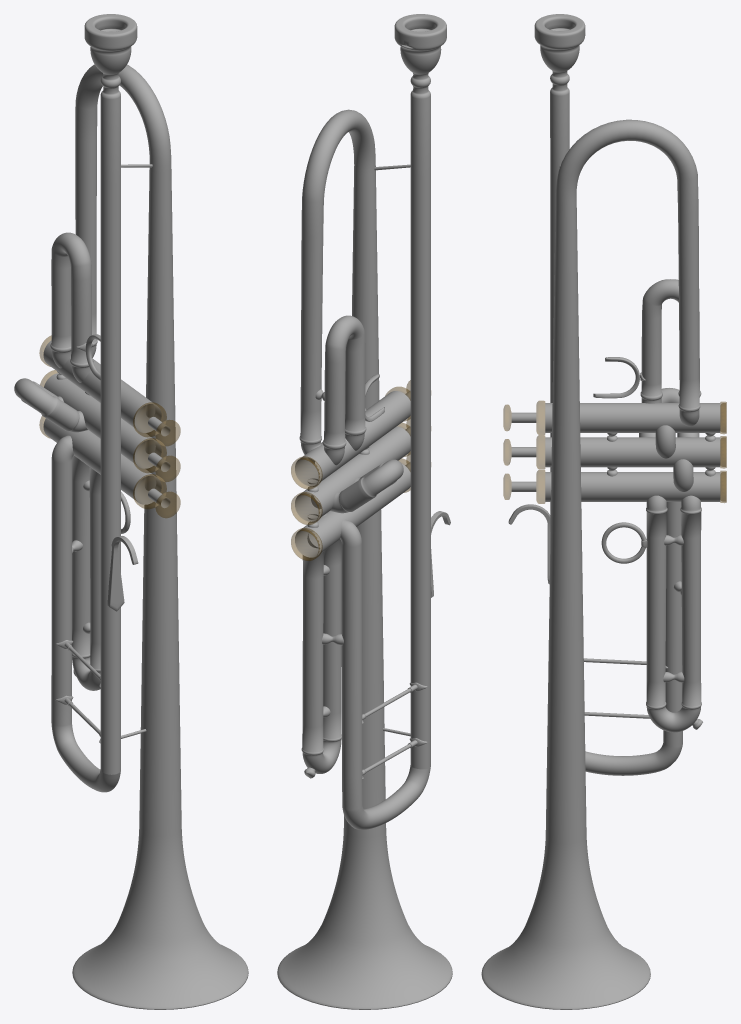
File: trumpet.glb
3 views of the same model, side by side, from view 1: azimuth 30°, elevation 25°; view 2: azimuth 150°, elevation 25°; view 3: azimuth 270°, elevation 25° (orthographic). The views are drawn at different scales.
Parts seen in each view (by area): view 1: 10395_Trumpet_v1; view 2: 10395_Trumpet_v1; view 3: 10395_Trumpet_v1.
Part boxes in pixels (left/top/right/bottom): 10395_Trumpet_v1: left=14, top=14, right=248, bottom=1009; 10395_Trumpet_v1: left=277, top=14, right=452, bottom=1009; 10395_Trumpet_v1: left=481, top=14, right=726, bottom=1009.
Size of the model in its own units: 5.68 by 31.81 by 7.63.
